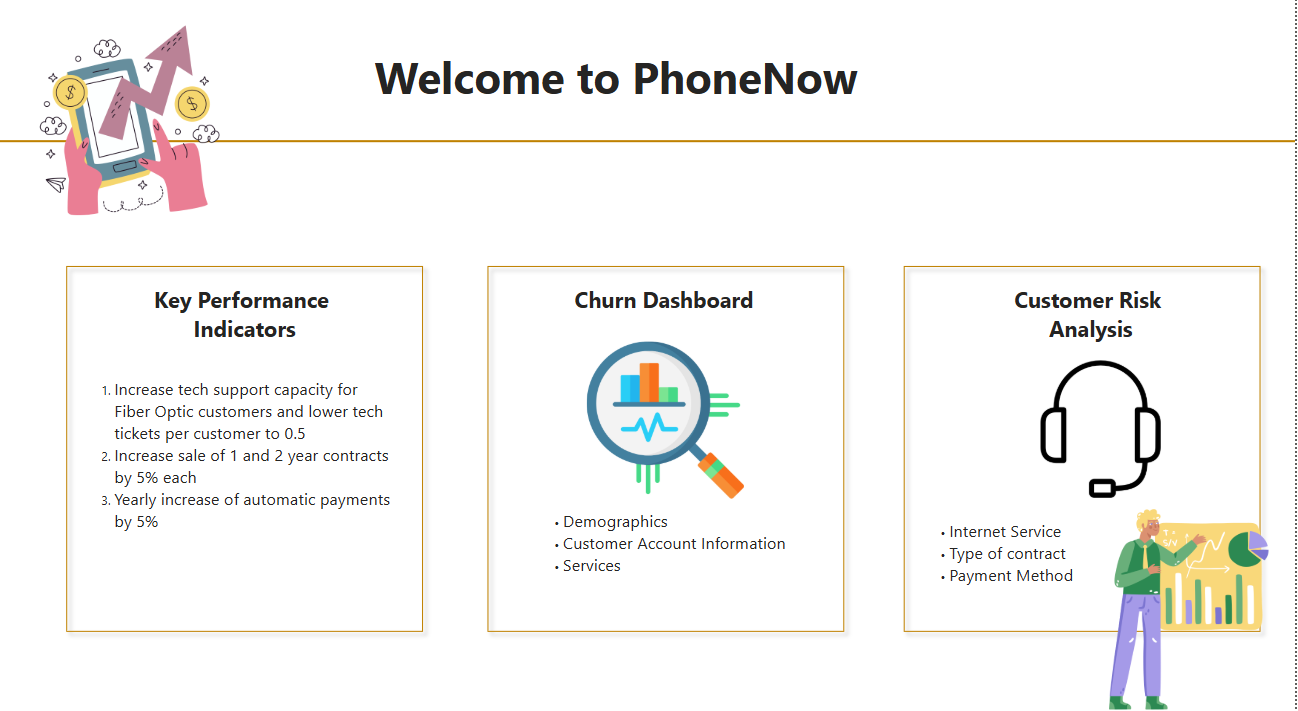

The page's visual inventory and layout, read from the dashboard file:
{"tool":"powerbi","page":{"name":"Page 1","canvas":[1280,720],"ordinal":0},"visuals":[{"type":"textbox","box":[374.2,62.2,495.7,70],"z":0},{"type":"shape","box":[0,147.7,1280,23.3],"z":1000},{"type":"shape","box":[68.3,272.2,367.1,376],"z":2000},{"type":"shape","box":[480.6,272.2,367.1,376],"z":3000},{"type":"shape","box":[887.6,272.2,367.1,376],"z":4000},{"type":"textbox","box":[140.1,295.3,222.6,70.9],"z":5000},{"type":"textbox","box":[102,385.7,299.7,195.1],"z":6000},{"type":"textbox","box":[570.1,295.3,201.3,47.9],"z":7000},{"type":"textbox","box":[540,514.3,262.5,102.9],"z":8000},{"type":"image","box":[582.6,351.1,163.2,163.2],"z":9000},{"type":"textbox","box":[944.3,295.3,271.3,79.8],"z":10000},{"type":"textbox","box":[918.6,524,183.5,83.3],"z":11000},{"type":"image","box":[1017.9,369.8,144.5,144.5],"z":12000},{"type":"image","box":[1071.1,514.3,209.3,205.7],"z":13000},{"type":"image","box":[40.8,41.7,198.6,195.1],"z":14000}]}

Visuals, with their boxes in screenshot pixels (x1, y1, x2, y2), scaled from the page's 1280x720 canvas onto the 1298x711 screenshot:
textbox: select_region(379, 61, 882, 131)
shape: select_region(0, 146, 1297, 169)
shape: select_region(69, 269, 442, 640)
shape: select_region(487, 269, 860, 640)
shape: select_region(900, 269, 1272, 640)
textbox: select_region(142, 292, 368, 362)
textbox: select_region(103, 381, 407, 574)
textbox: select_region(578, 292, 782, 339)
textbox: select_region(548, 508, 814, 609)
image: select_region(591, 347, 756, 508)
textbox: select_region(958, 292, 1233, 370)
textbox: select_region(932, 517, 1118, 600)
image: select_region(1032, 365, 1179, 508)
image: select_region(1086, 508, 1297, 710)
image: select_region(41, 41, 243, 234)
